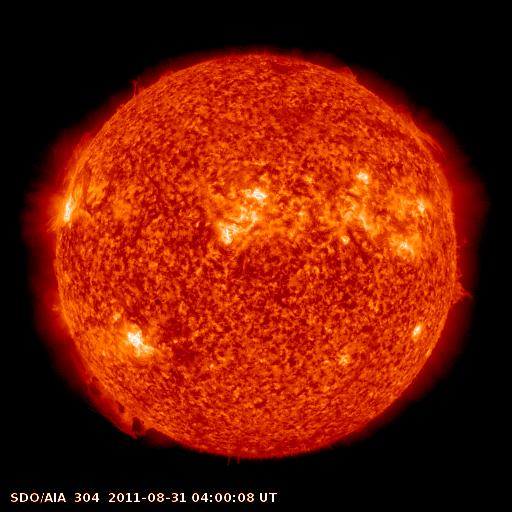prominence: (62, 340, 156, 444), (393, 101, 452, 170), (54, 121, 111, 182), (443, 252, 479, 314), (326, 54, 362, 92)
